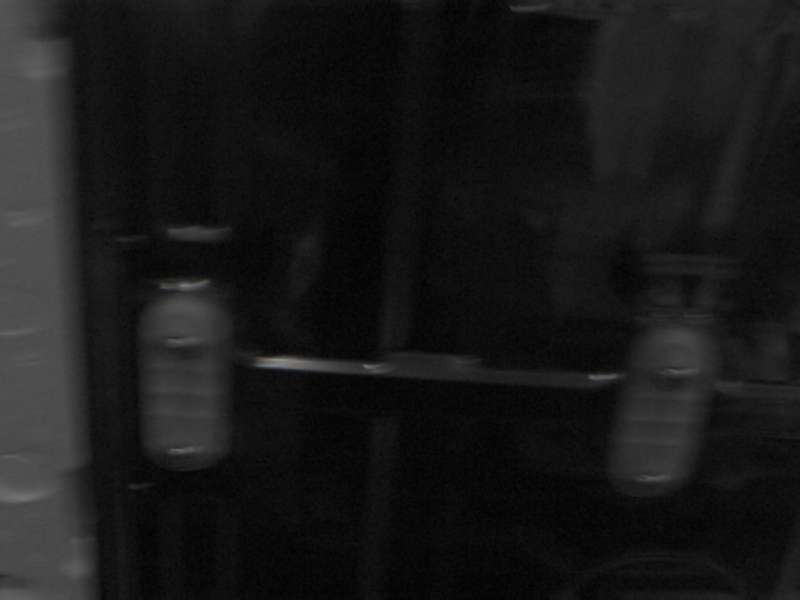screw: (627, 467, 674, 498), (652, 362, 691, 398), (155, 332, 203, 361), (162, 441, 203, 466)
